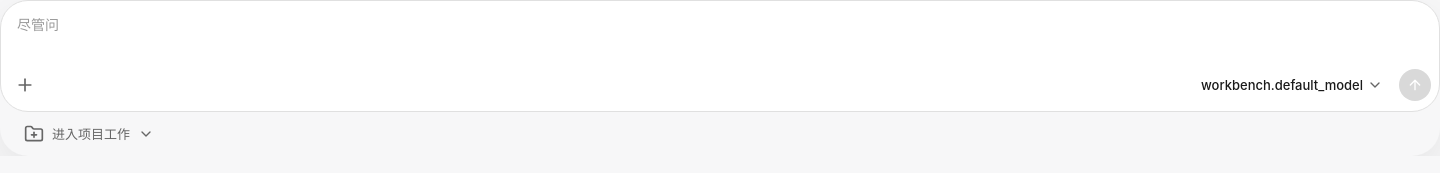
Test: ChatInput › opens the desktop add context menu with only file upload
Click the button with test id "add-context-button" at (25, 85), box x1=9 y1=69 x2=41 y2=101
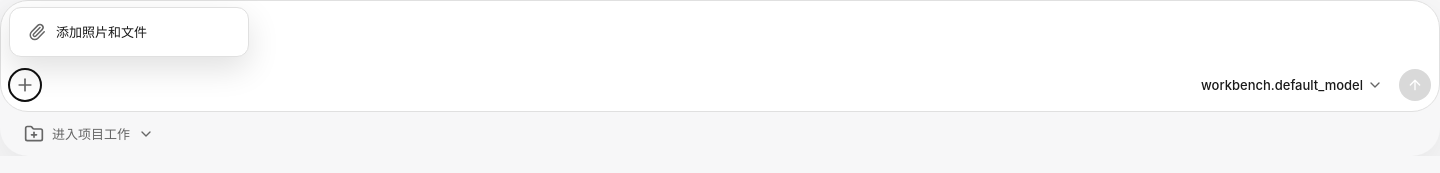
Expected: the element with test id "add-context-menu" is shown, x1=9 y1=7 x2=249 y2=57
Expected: the text "添加照片和文件" is shown, x1=56 y1=23 x2=147 y2=41
